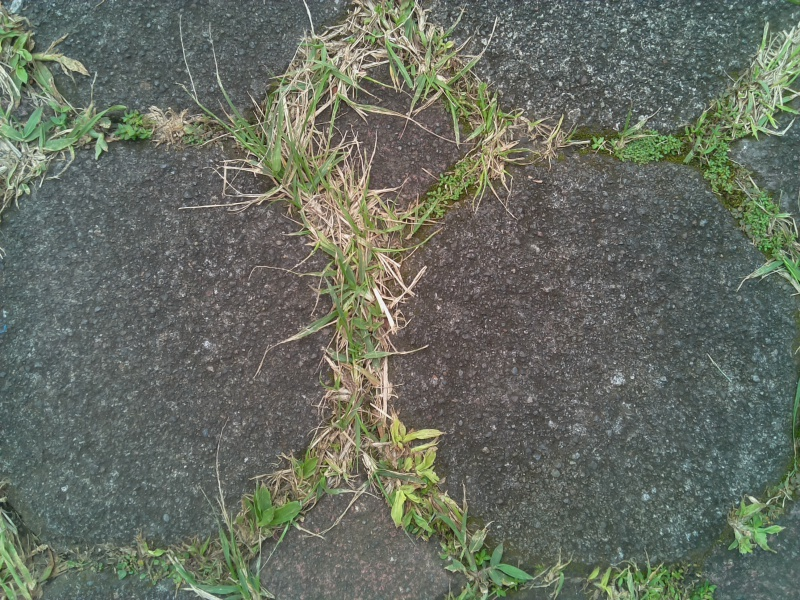Weed: (221, 70, 365, 229), (300, 200, 409, 387), (361, 397, 455, 534), (725, 20, 800, 157), (389, 18, 479, 122), (1, 113, 91, 208), (280, 20, 371, 109), (472, 88, 534, 199), (1, 22, 86, 102), (447, 522, 533, 600), (224, 465, 306, 546), (415, 137, 484, 227), (112, 97, 201, 158), (736, 182, 798, 267), (717, 491, 788, 565), (97, 531, 181, 587), (591, 120, 680, 170), (584, 559, 690, 600)
